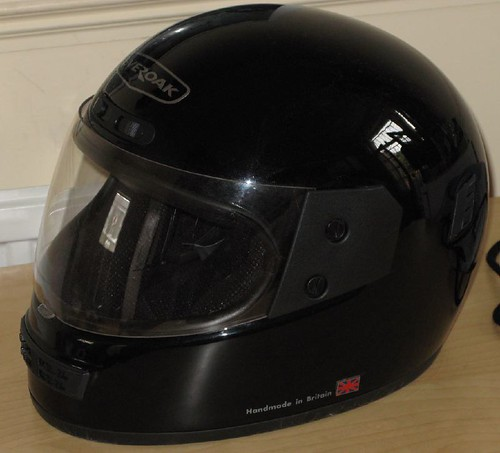helmet: (16, 1, 494, 446)
